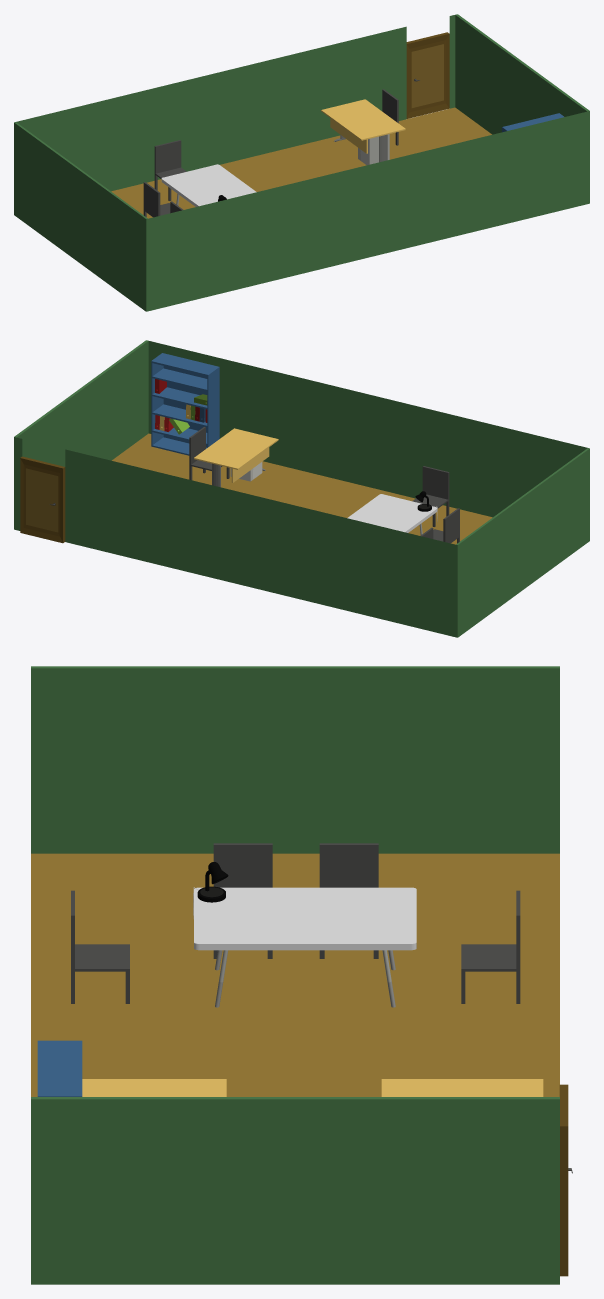
Rendered from doluoda.fbx.
3 renders of one model, top to bottom at view 1: azimuth 30°, elevation 25°; view 2: azimuth 150°, elevation 25°; view 3: azimuth 270°, elevation 25°, orthographic. The views are drawn at different scales.
Parts seen in each view (by area): view 1: zemin, zemin.001, MASA, MASA.001, Cube.001, İÇKAPU, DIŞKAPI, KÜÇÜK MASA; view 2: zemin, zemin.001, Cube, Cube.001, MASA.002, MASA, İÇKAPU, DIŞKAPI; view 3: zemin, zemin.001, MASA, Cube.001, MASA.001, Cube, MASA.002, DIŞKAPI, AYAK.
Part boxes in pixels (<box>): zemin: <box>14,14,589,311</box>; zemin.001: <box>111,107,491,218</box>; MASA: <box>161,164,256,206</box>; MASA.001: <box>321,99,405,153</box>; Cube.001: <box>143,89,398,217</box>; İÇKAPU: <box>411,44,443,107</box>; DIŞKAPI: <box>406,32,449,118</box>; KÜÇÜK MASA: <box>358,134,389,165</box>; zemin: <box>14,340,589,637</box>; zemin.001: <box>112,433,492,544</box>; Cube: <box>151,353,219,455</box>; Cube.001: <box>189,427,459,543</box>; MASA.002: <box>194,428,278,482</box>; MASA: <box>347,494,437,532</box>; İÇKAPU: <box>26,468,58,532</box>; DIŞKAPI: <box>20,456,65,543</box>; zemin: <box>31,666,559,1284</box>; zemin.001: <box>31,853,559,1096</box>; MASA: <box>194,887,416,950</box>; Cube.001: <box>71,843,520,1003</box>; MASA.001: <box>381,1079,543,1096</box>; Cube: <box>37,1040,82,1096</box>; MASA.002: <box>82,1079,226,1096</box>; DIŞKAPI: <box>559,1084,568,1276</box>; AYAK: <box>215,950,395,1007</box>.
Bounding box in the file's own units: 3100 × 628 × 1639.
